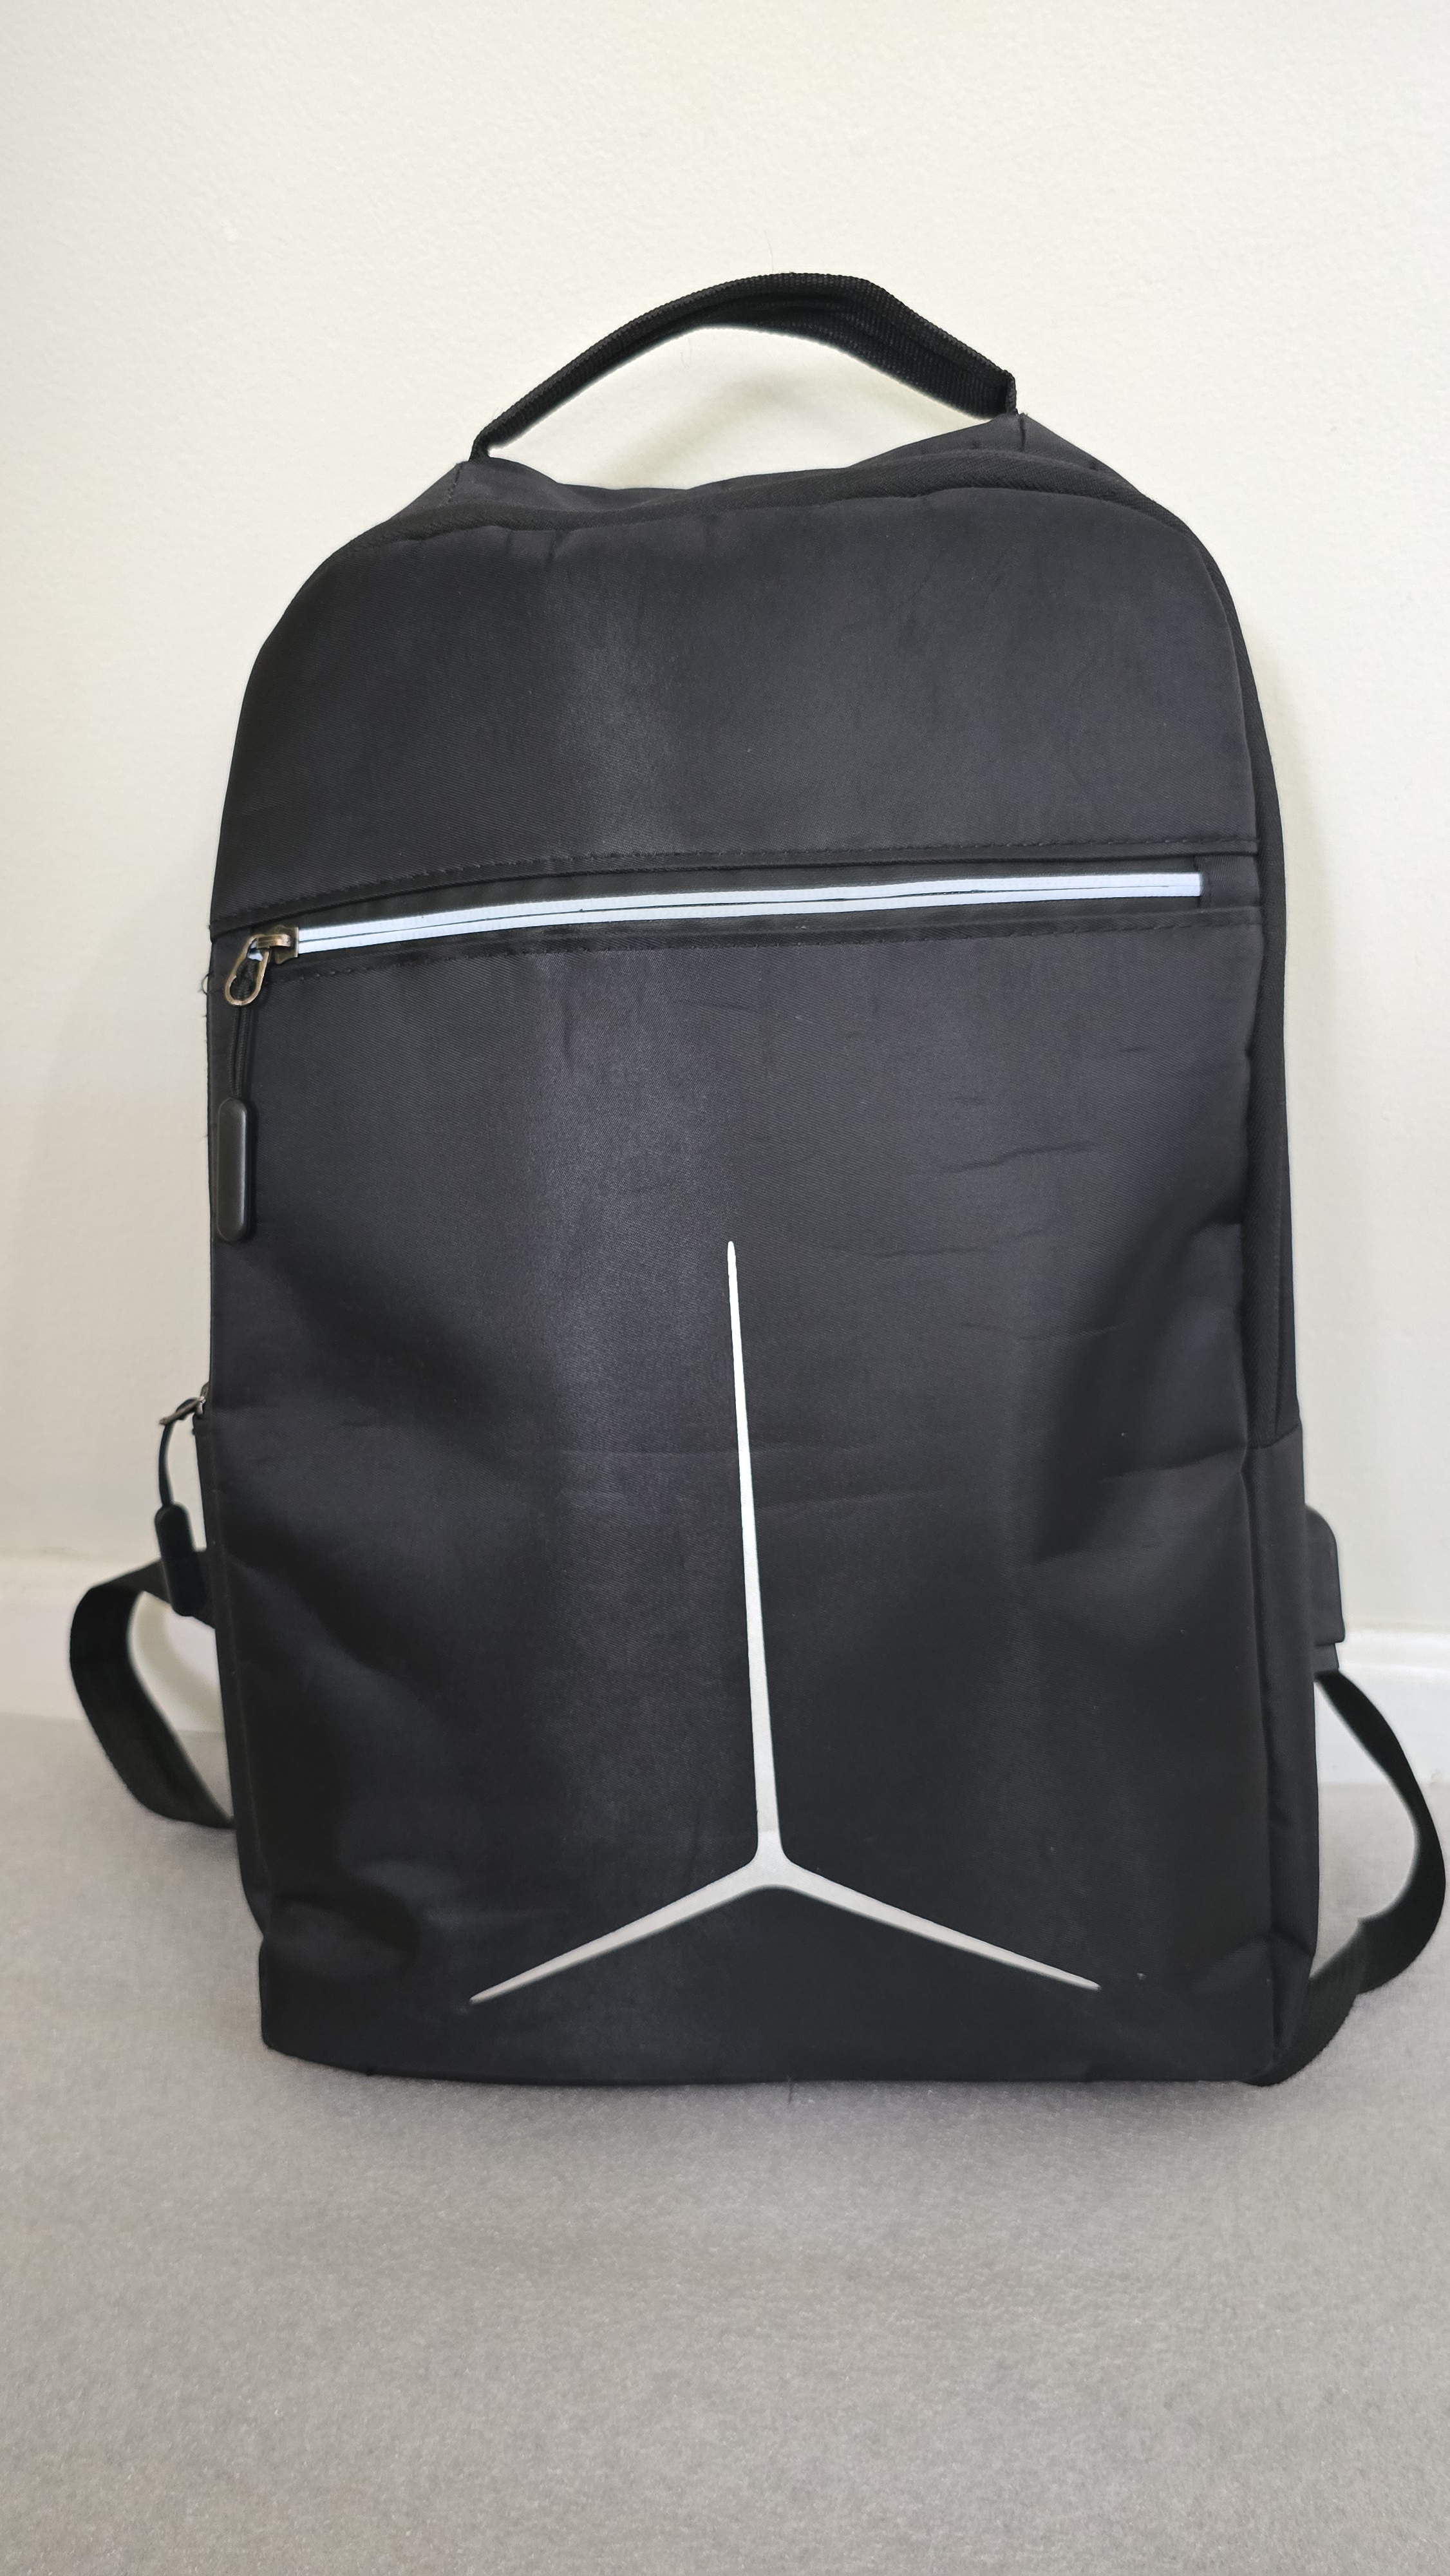bag: (110, 251, 1450, 2141)
